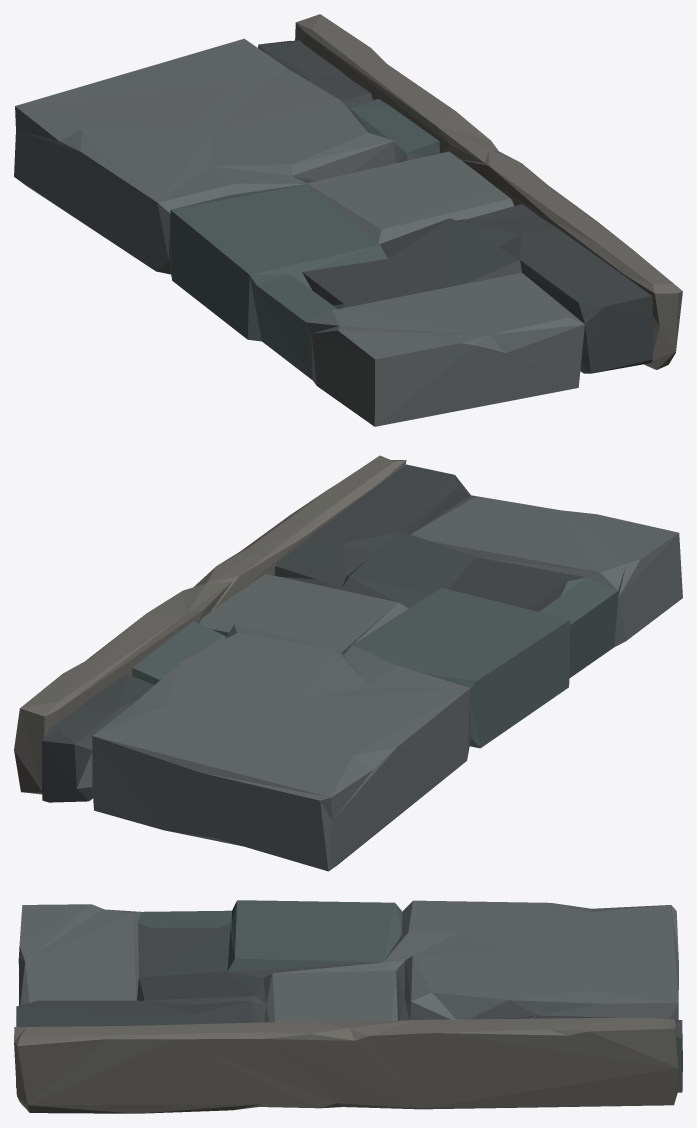
The model's file is MDungenon_StoneFloor_Half.FBX.
The picture shows the model from 3 angles, top to bottom: view 1: azimuth 30°, elevation 25°; view 2: azimuth 150°, elevation 25°; view 3: azimuth 270°, elevation 25°; orthographic projection. The views are drawn at different scales.
Parts seen in each view (by area): view 1: MDungenon_StoneFloor_Half_LOD0; view 2: MDungenon_StoneFloor_Half_LOD0; view 3: MDungenon_StoneFloor_Half_LOD0.
Part boxes in pixels (left/top/right/bottom): MDungenon_StoneFloor_Half_LOD0: left=14, top=14, right=682, bottom=426; MDungenon_StoneFloor_Half_LOD0: left=14, top=455, right=682, bottom=871; MDungenon_StoneFloor_Half_LOD0: left=14, top=900, right=682, bottom=1113.
Size of what is drawn, in the model's own units: 3.04 by 0.8674 by 6.09.
